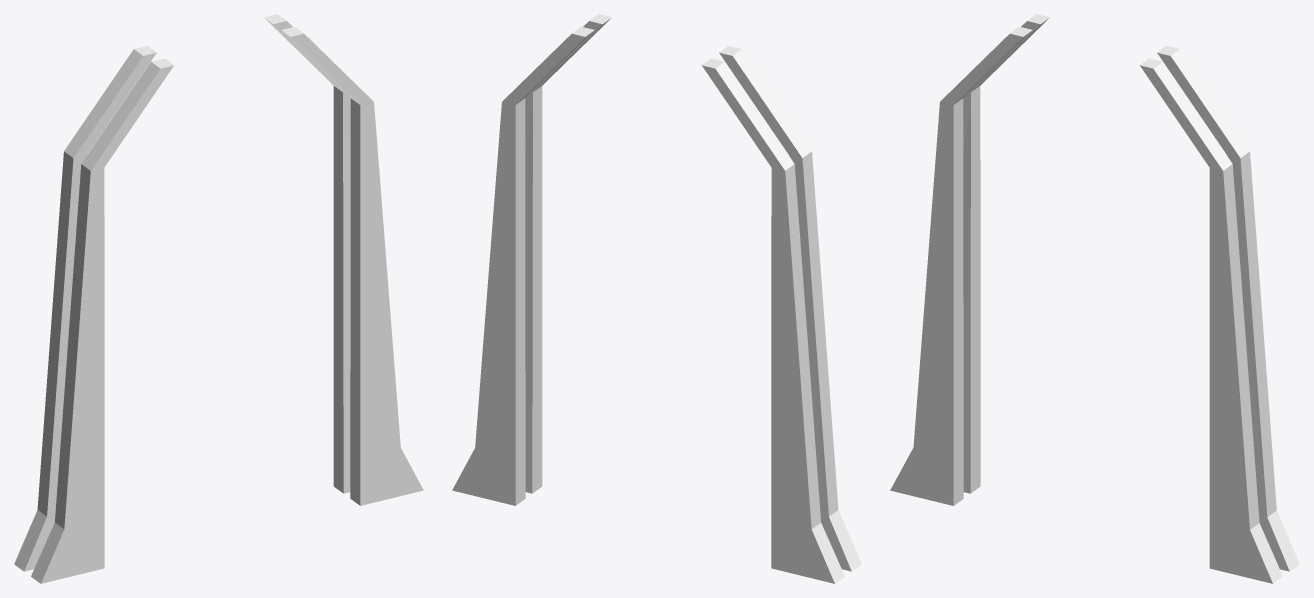
File: outside.obj
3 views of the same model, side by side, from view 1: azimuth 30°, elevation 25°; view 2: azimuth 150°, elevation 25°; view 3: azimuth 330°, elevation 25° (orthographic).
Parts seen in each view (by area): view 1: outside; view 2: outside; view 3: outside.
Boxes of the visible parts, x1,y1,x2,y2 form: outside: (14,14,423,583); outside: (452,14,861,583); outside: (890,14,1299,583).
Size of the model in its own units: 3.3 by 4 by 0.4004.
1 material, 1 textured.
